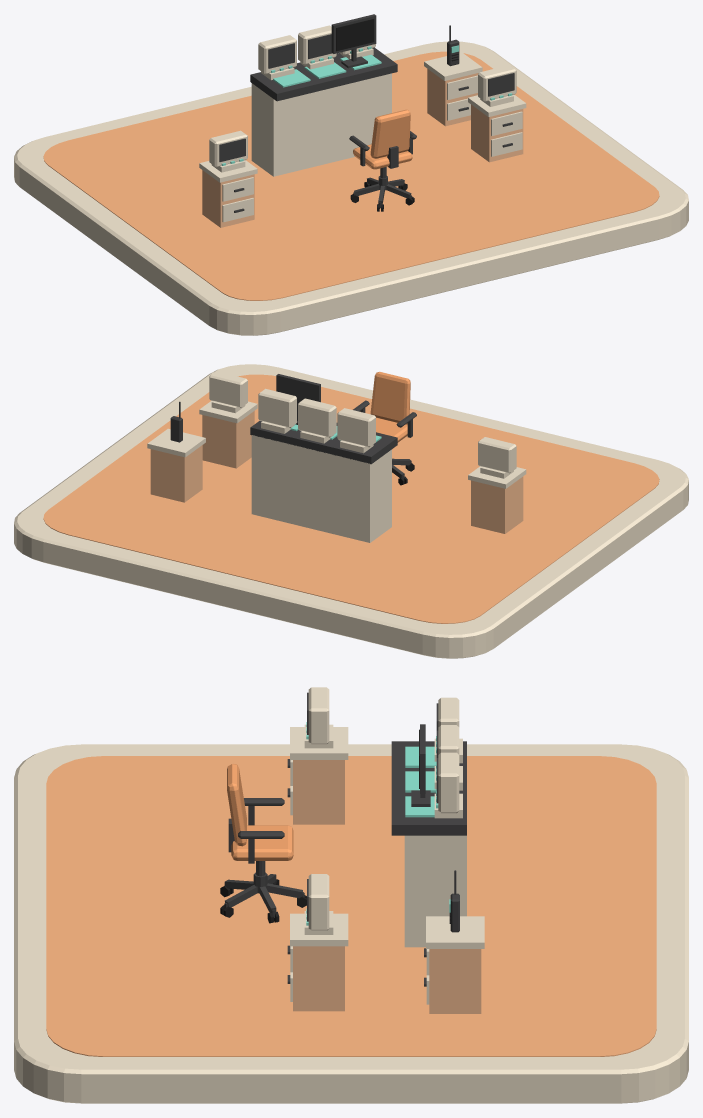
Rendered from room.fbx.
3 views of the same model, one above another, from view 1: azimuth 30°, elevation 25°; view 2: azimuth 150°, elevation 25°; view 3: azimuth 270°, elevation 25° (orthographic). The views are drawn at different scales.
Parts seen in each view (by area): view 1: COM-02 Floor Surface, COM-01 Rounded Base Direct, Console, COM-04_Chair_blender_direct, Panel, Frame, Body, Body.001, Body.002, Top.002, Housing, Housing.004 (+11 smaller); view 2: COM-02 Floor Surface, COM-01 Rounded Base Direct, Console, COM-04_Chair_blender_direct, Body, Body.002, Body.001, Panel, Housing, Housing.001, Housing.002, Housing.004 (+5 smaller); view 3: COM-02 Floor Surface, COM-01 Rounded Base Direct, COM-04_Chair_blender_direct, Console, Body.002, Body.001, Body, Panel, Top.002, Top.001, Top, Housing.002 (+3 smaller).
Boxes of the visible parts, box(x1,y1,x2,y2) form: COM-02 Floor Surface: box(43, 51, 659, 300); COM-01 Rounded Base Direct: box(14, 41, 688, 335); Console: box(251, 73, 391, 176); COM-04_Chair_blender_direct: box(349, 109, 416, 211); Panel: box(250, 48, 397, 101); Frame: box(331, 14, 376, 68); Body: box(202, 170, 254, 227); Body.001: box(471, 104, 523, 162); Body.002: box(427, 69, 478, 126); Top.002: box(424, 52, 482, 80); Housing: box(258, 35, 296, 74); Housing.004: box(478, 65, 516, 101); COM-02 Floor Surface: box(43, 374, 659, 623); COM-01 Rounded Base Direct: box(14, 364, 688, 658); Console: box(251, 435, 391, 542); COM-04_Chair_blender_direct: box(353, 371, 416, 485); Body: box(471, 476, 523, 533); Body.002: box(150, 445, 202, 502); Body.001: box(202, 411, 254, 468); Panel: box(250, 421, 397, 464); Housing: box(337, 408, 375, 447); Housing.001: box(298, 398, 336, 437); Housing.002: box(258, 388, 296, 427); Housing.004: box(209, 371, 247, 407); COM-02 Floor Surface: box(46, 756, 656, 1056); COM-01 Rounded Base Direct: box(14, 744, 688, 1103); COM-04_Chair_blender_direct: box(220, 764, 306, 923); Console: box(404, 835, 466, 947); Body.002: box(429, 949, 481, 1013); Body.001: box(293, 946, 344, 1011); Body: box(293, 760, 344, 824); Panel: box(391, 741, 466, 835); Top.002: box(426, 916, 484, 948); Top.001: box(290, 913, 348, 946); Top: box(290, 727, 348, 759); Housing.002: box(438, 752, 459, 813).
Bounding box in the file's own units: 600 × 188 × 520.
